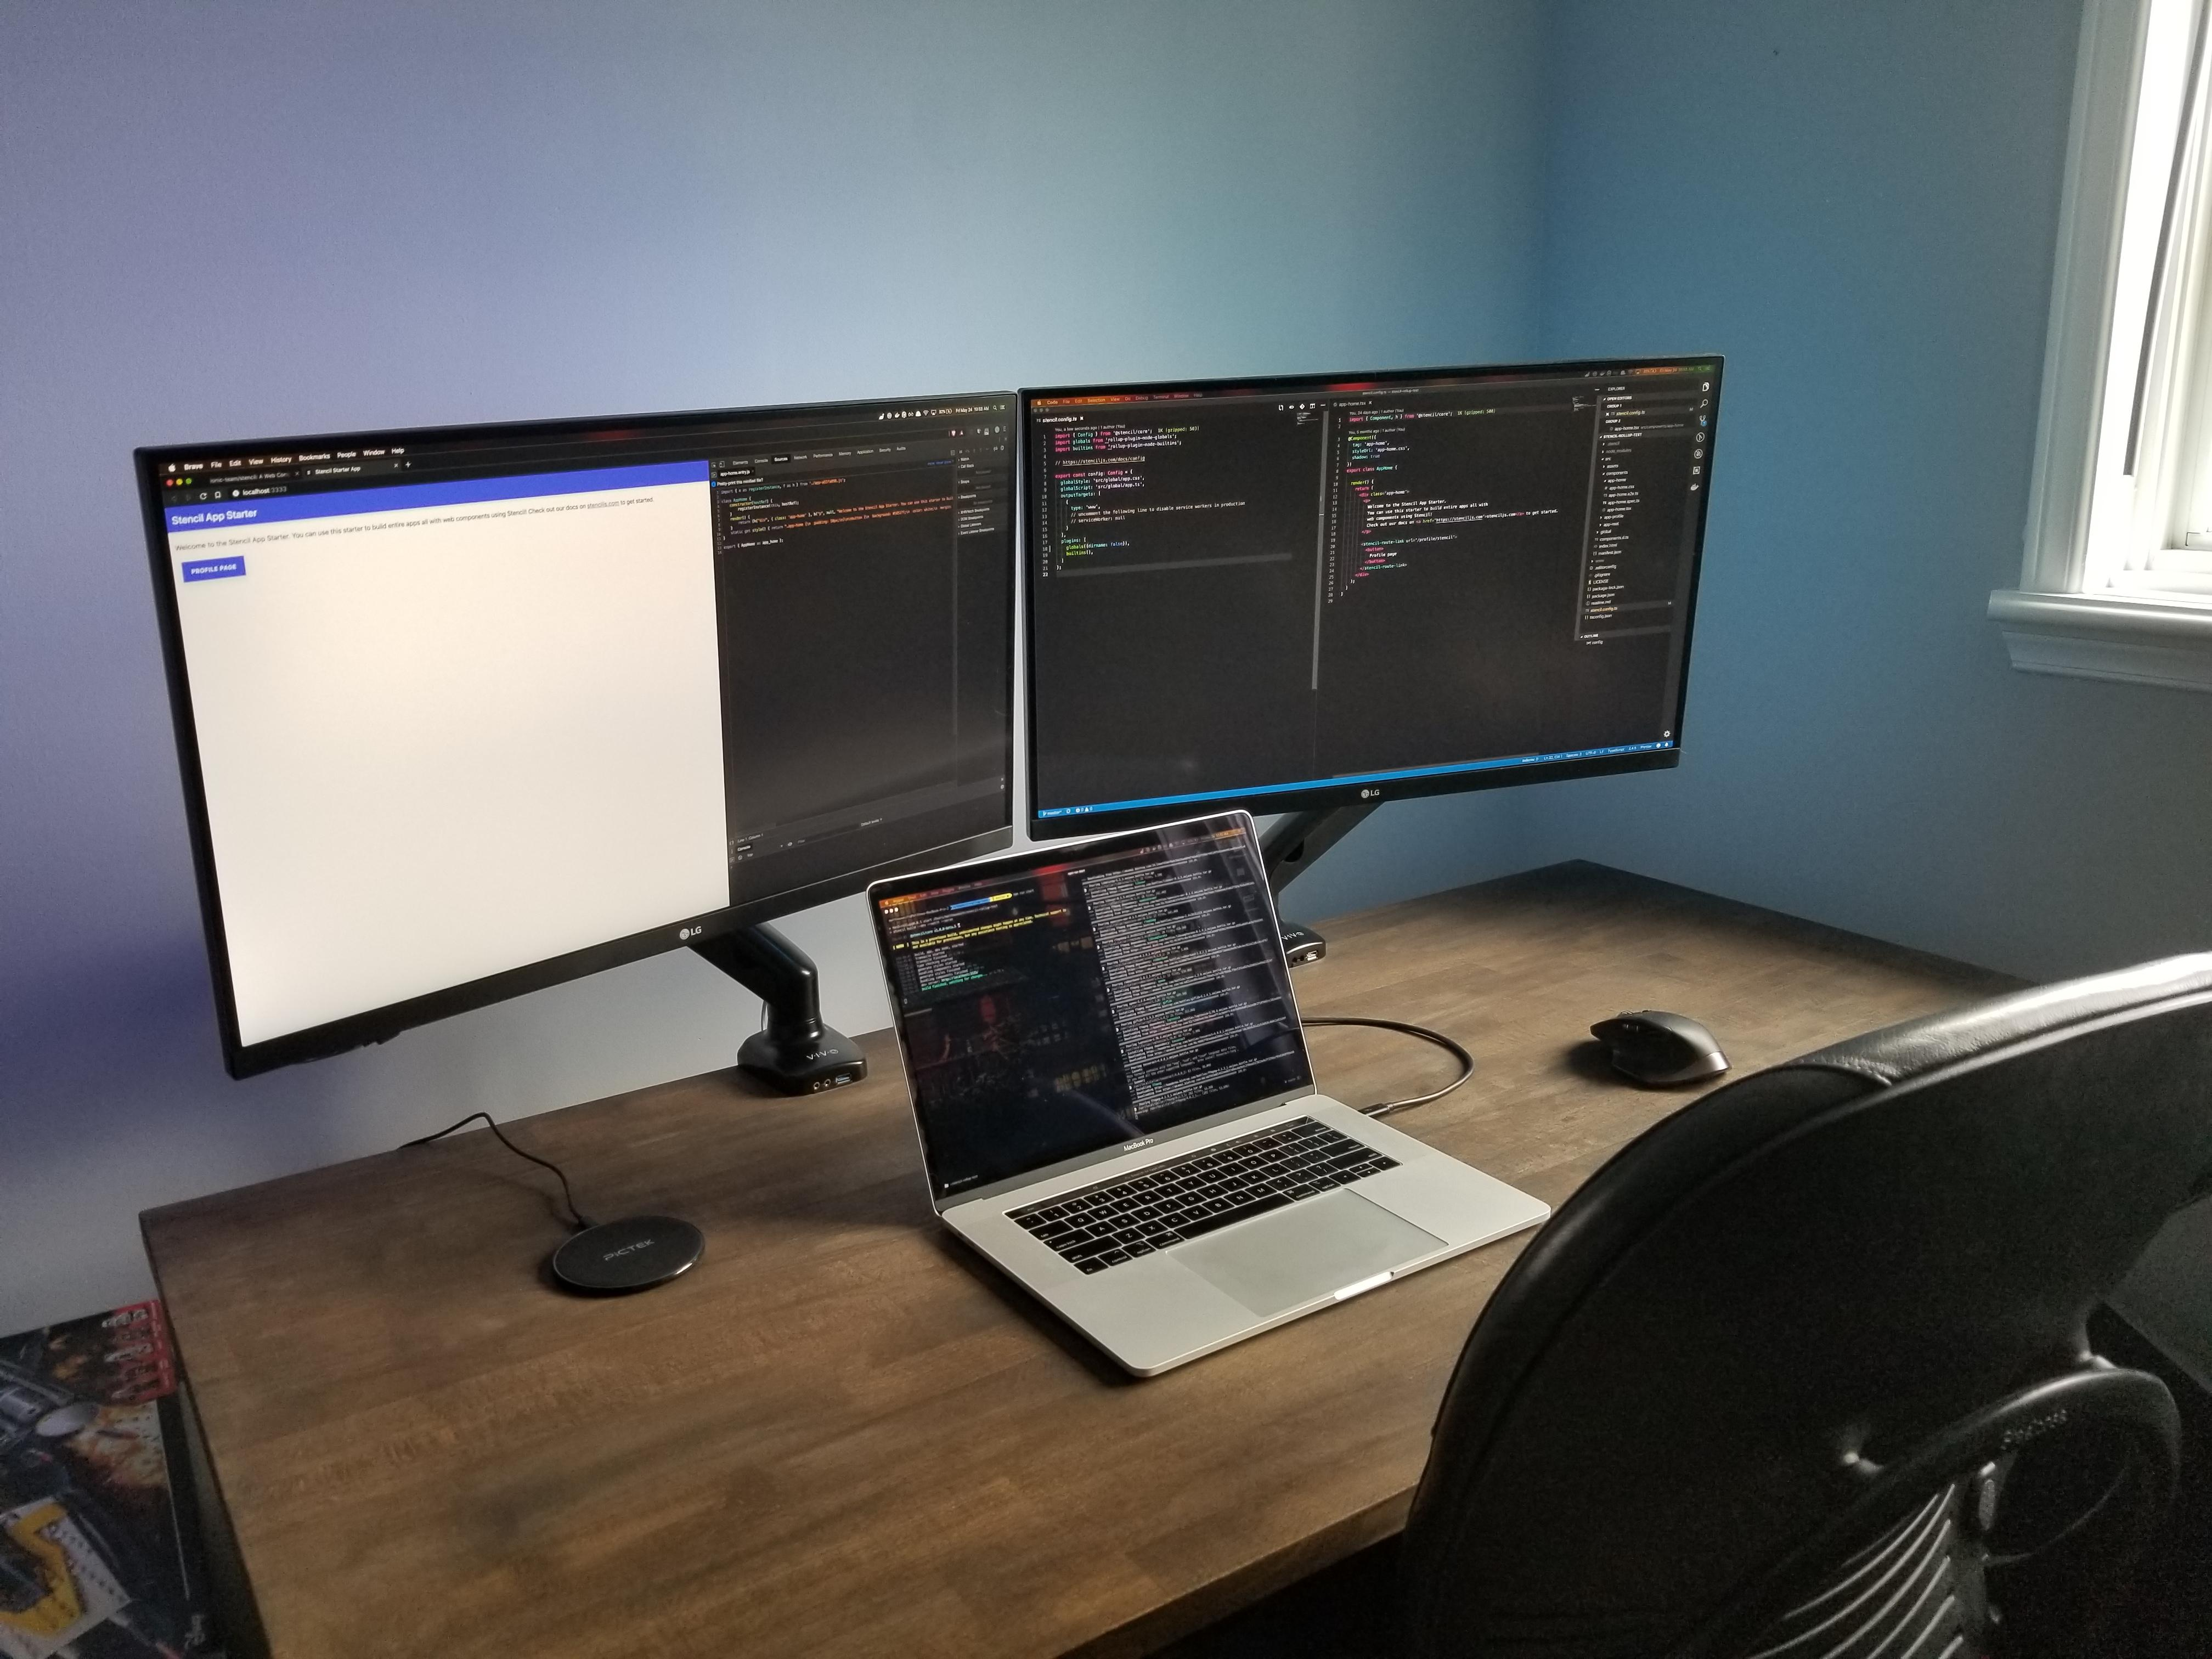Cellphone Charger (Wireless): (536, 1201, 718, 1312)
Chair (Generic): (1400, 941, 2212, 1650)
Desk (Generic): (132, 863, 2212, 1659)
Laptop (OSX): (864, 810, 1550, 1391)
Monitor (Landscape): (131, 392, 1019, 1073), (1022, 354, 1721, 850)
Monitor (Laptop): (866, 812, 1305, 1216)
Monitor Arm: (676, 917, 871, 1098), (1261, 788, 1390, 969)
Mouse (Ergonomic): (1568, 1009, 1737, 1093)
